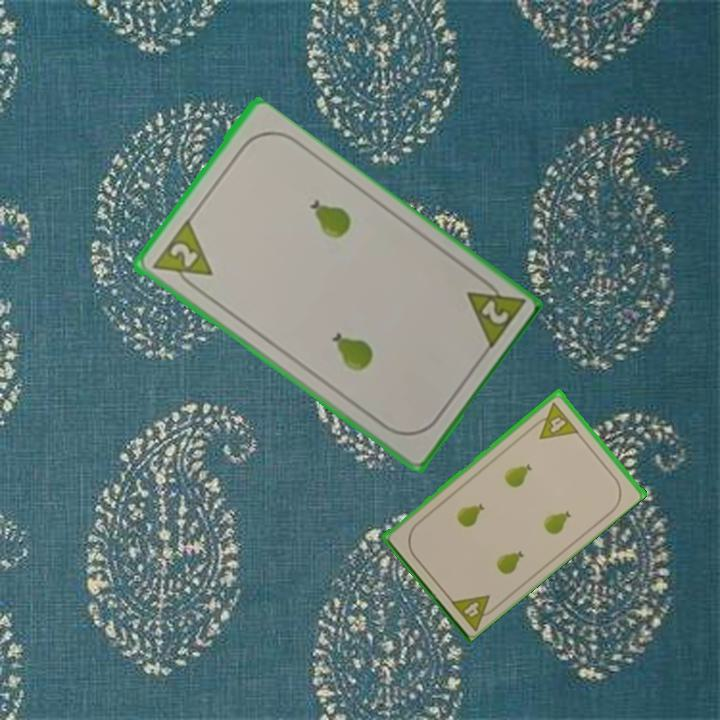2p: (462, 271, 527, 354), (147, 218, 215, 295)
4p: (528, 398, 581, 442), (446, 590, 501, 632)
